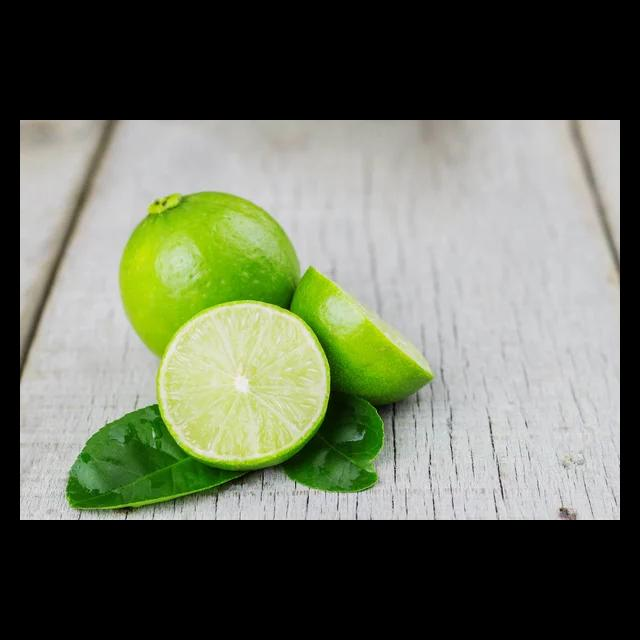lime: (118, 188, 304, 376)
